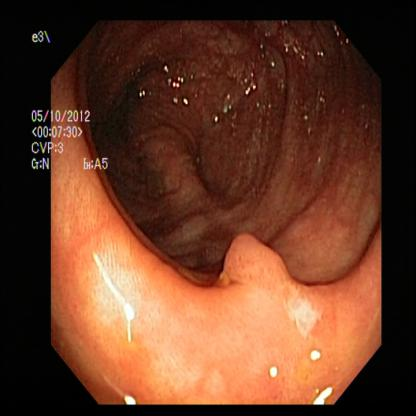Labels: (28, 32, 113, 175)
Polyps: (217, 230, 294, 294)
